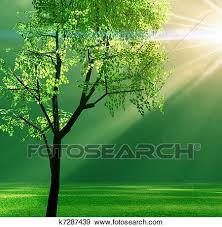tree: (16, 4, 147, 207)
